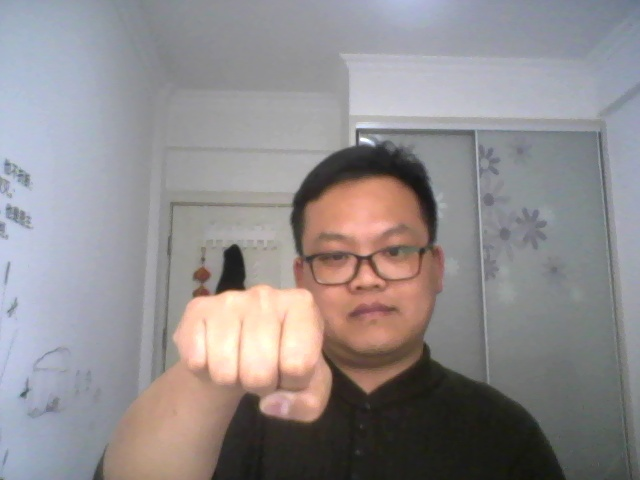Yes: (166, 272, 341, 429)
